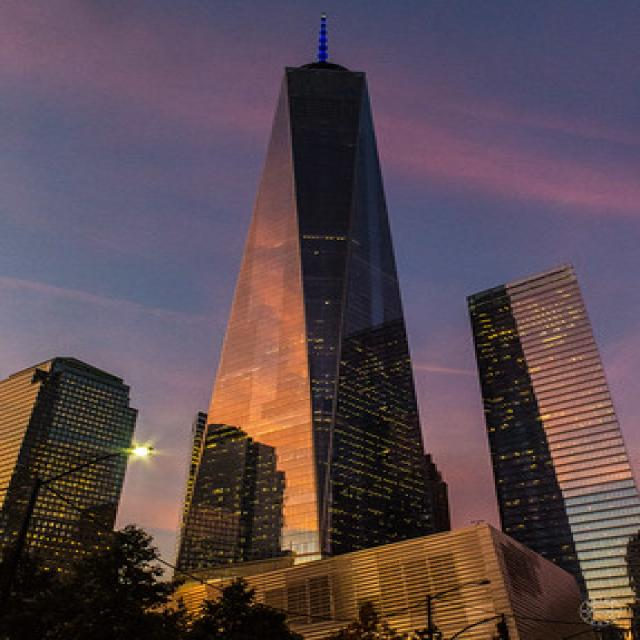building: (166, 51, 454, 602), (462, 255, 631, 638)
